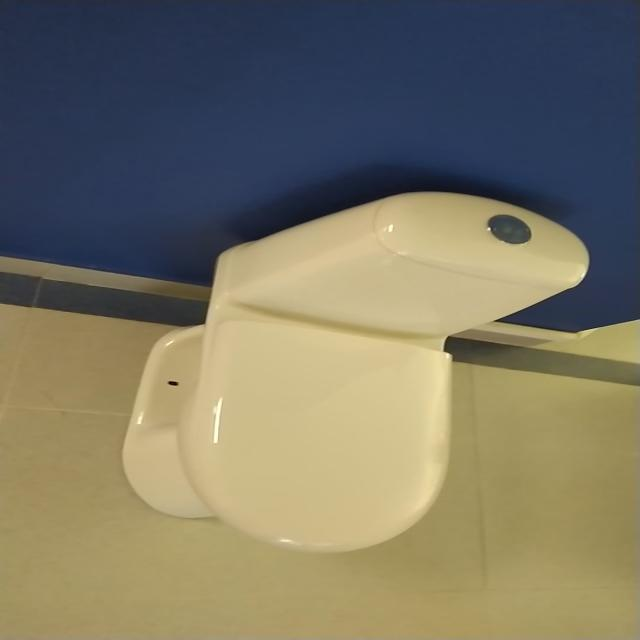toilet: (120, 190, 590, 553)
